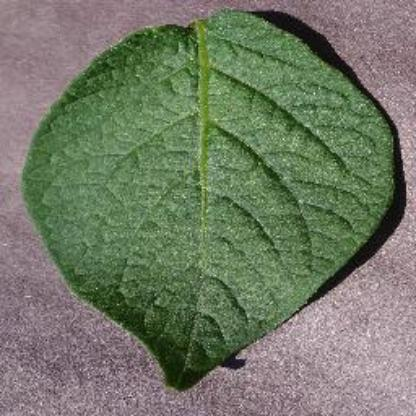Healthy-plant: (21, 10, 393, 390)
